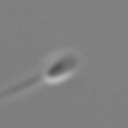normal: (1, 72, 43, 108)
